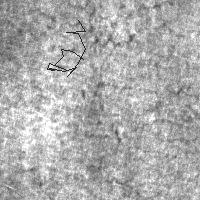crazing: (79, 82, 199, 174), (25, 1, 185, 50), (47, 20, 85, 76)
